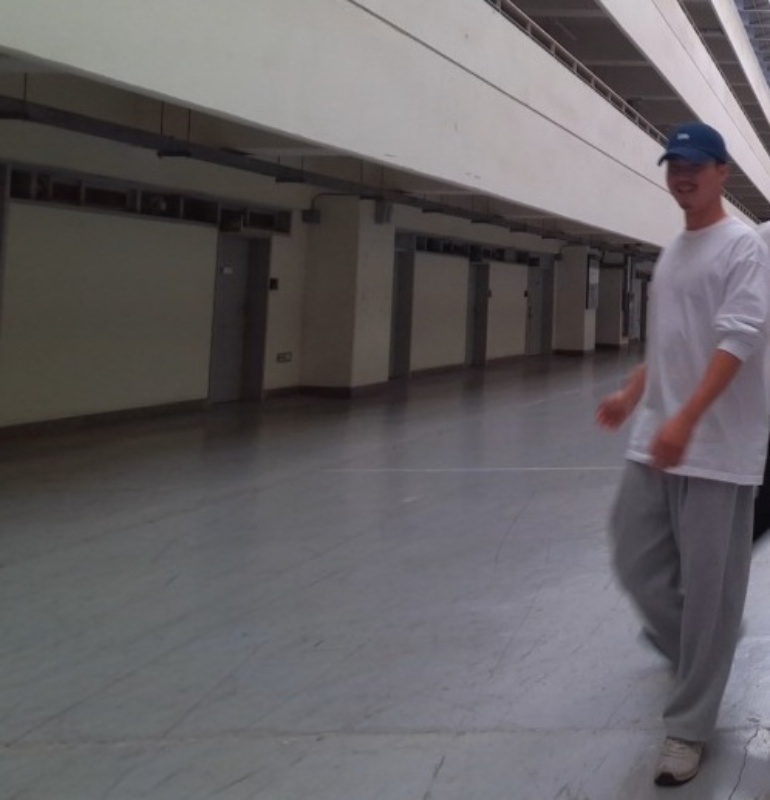person: (593, 123, 768, 788)
